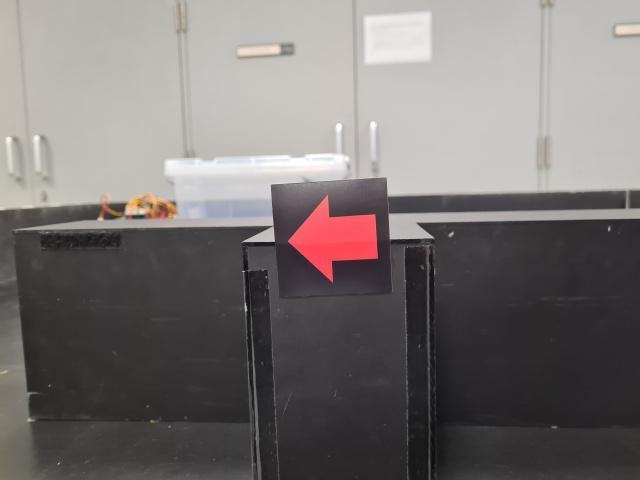left: (270, 178, 394, 298)
